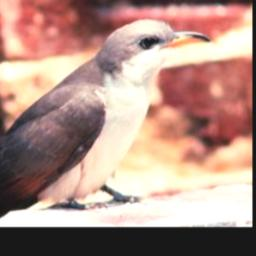Cuckoo: (0, 18, 212, 223)
